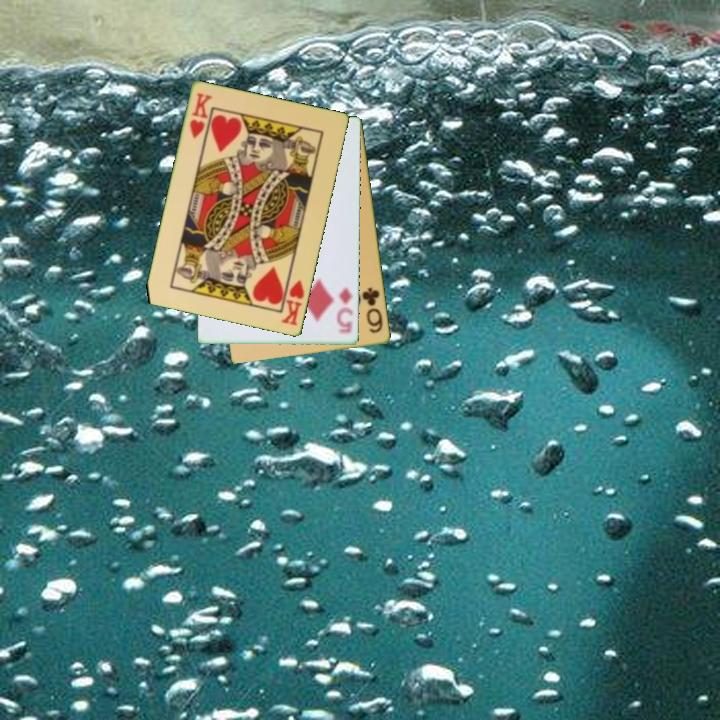5d: (334, 284, 356, 336)
6c: (359, 284, 386, 336)
Kh: (278, 272, 307, 329), (186, 90, 215, 142)
